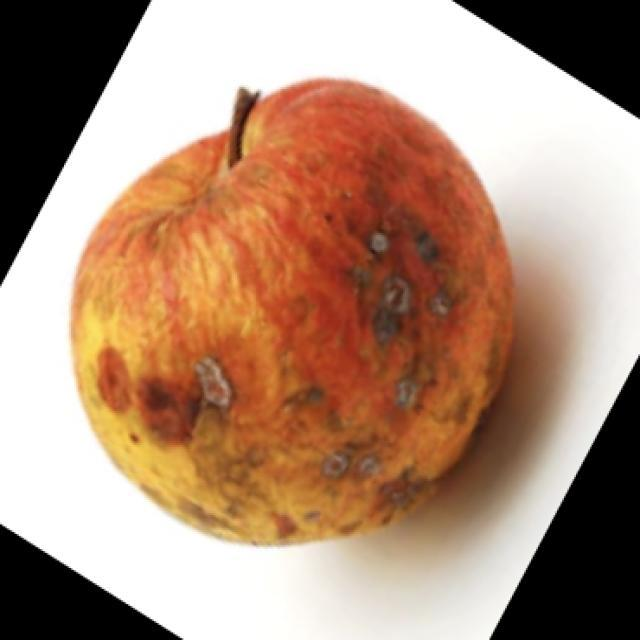Rotten: (72, 80, 505, 557)
